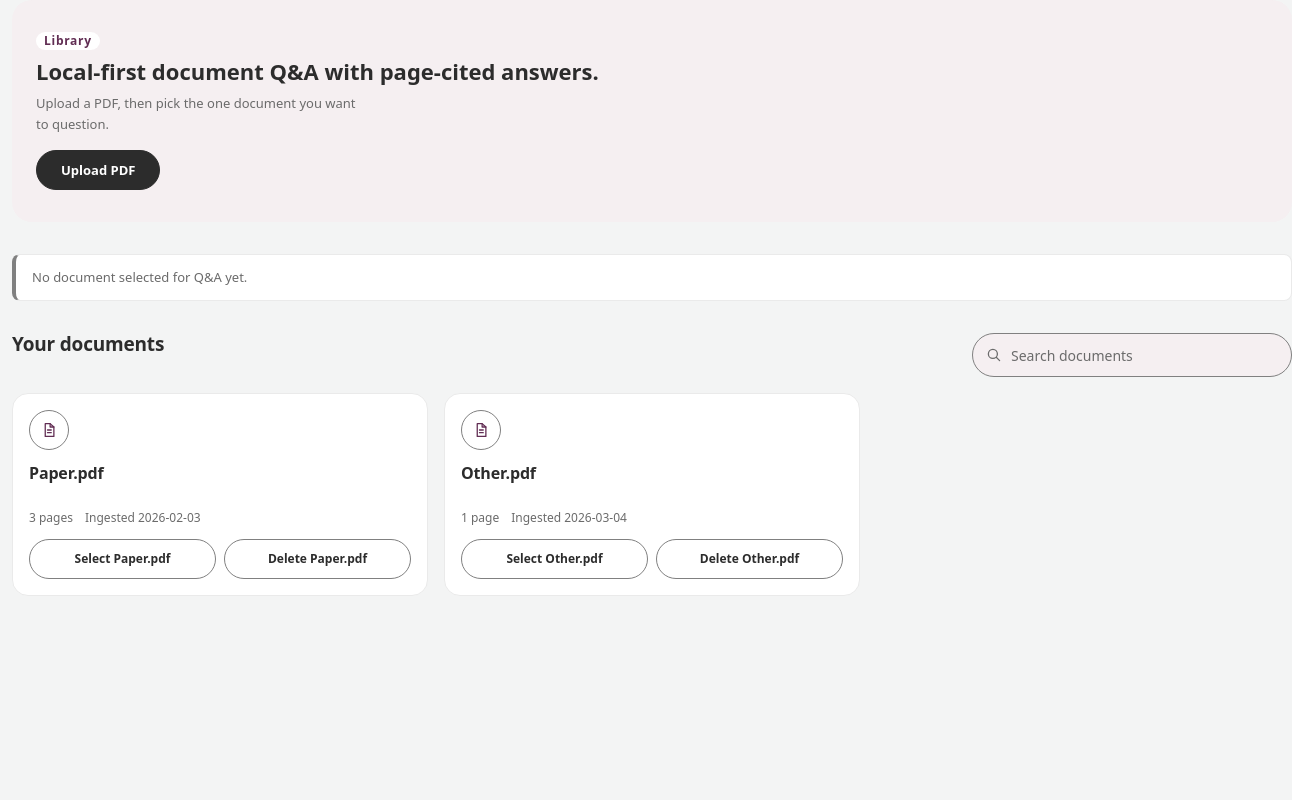
Test: Library › marks a document as the Q&A target and persists the choice
Check: the heading "Paper.pdf" is shown, box x1=29 y1=462 x2=104 y2=484
Click the button "Select Paper.pdf": [122, 559] box x1=29 y1=539 x2=216 y2=579
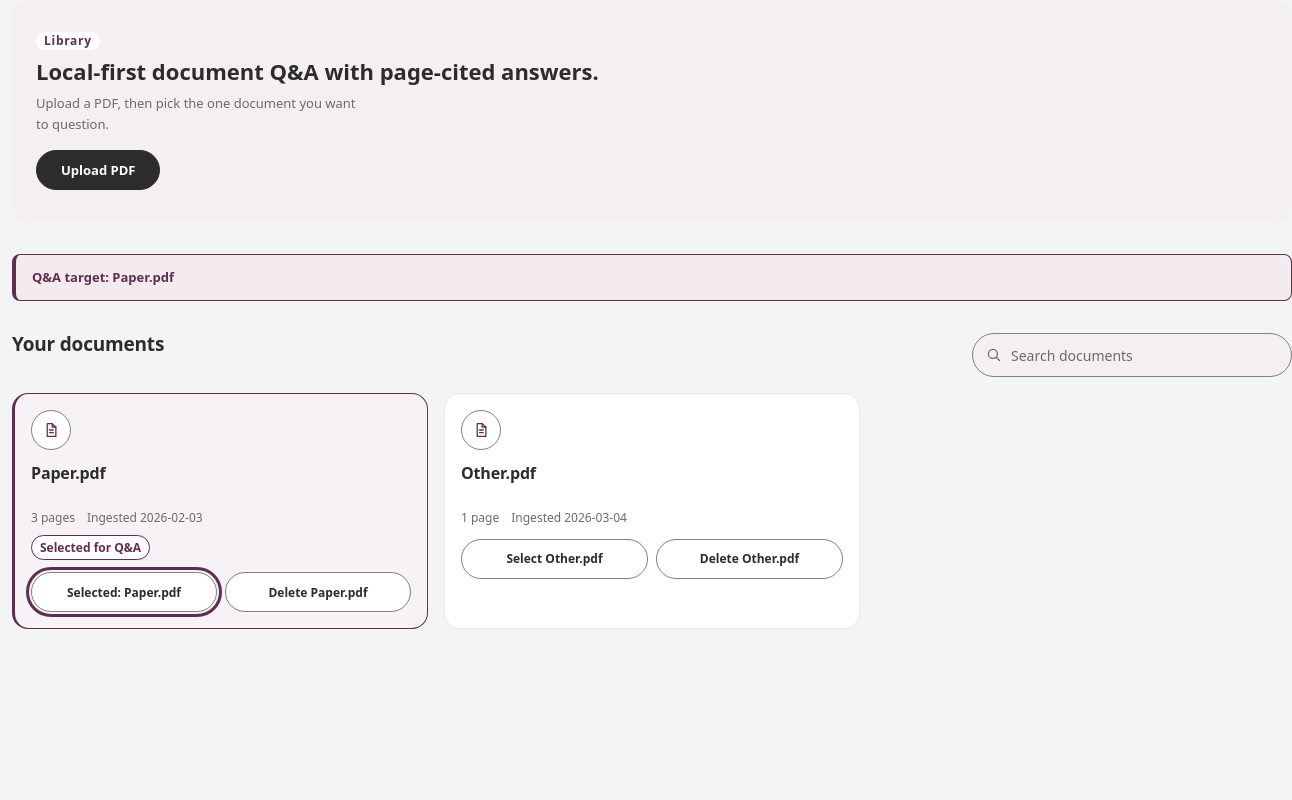
Check: the text "Q&A target: Paper.pdf" is shown, box x1=12 y1=254 x2=1291 y2=301
